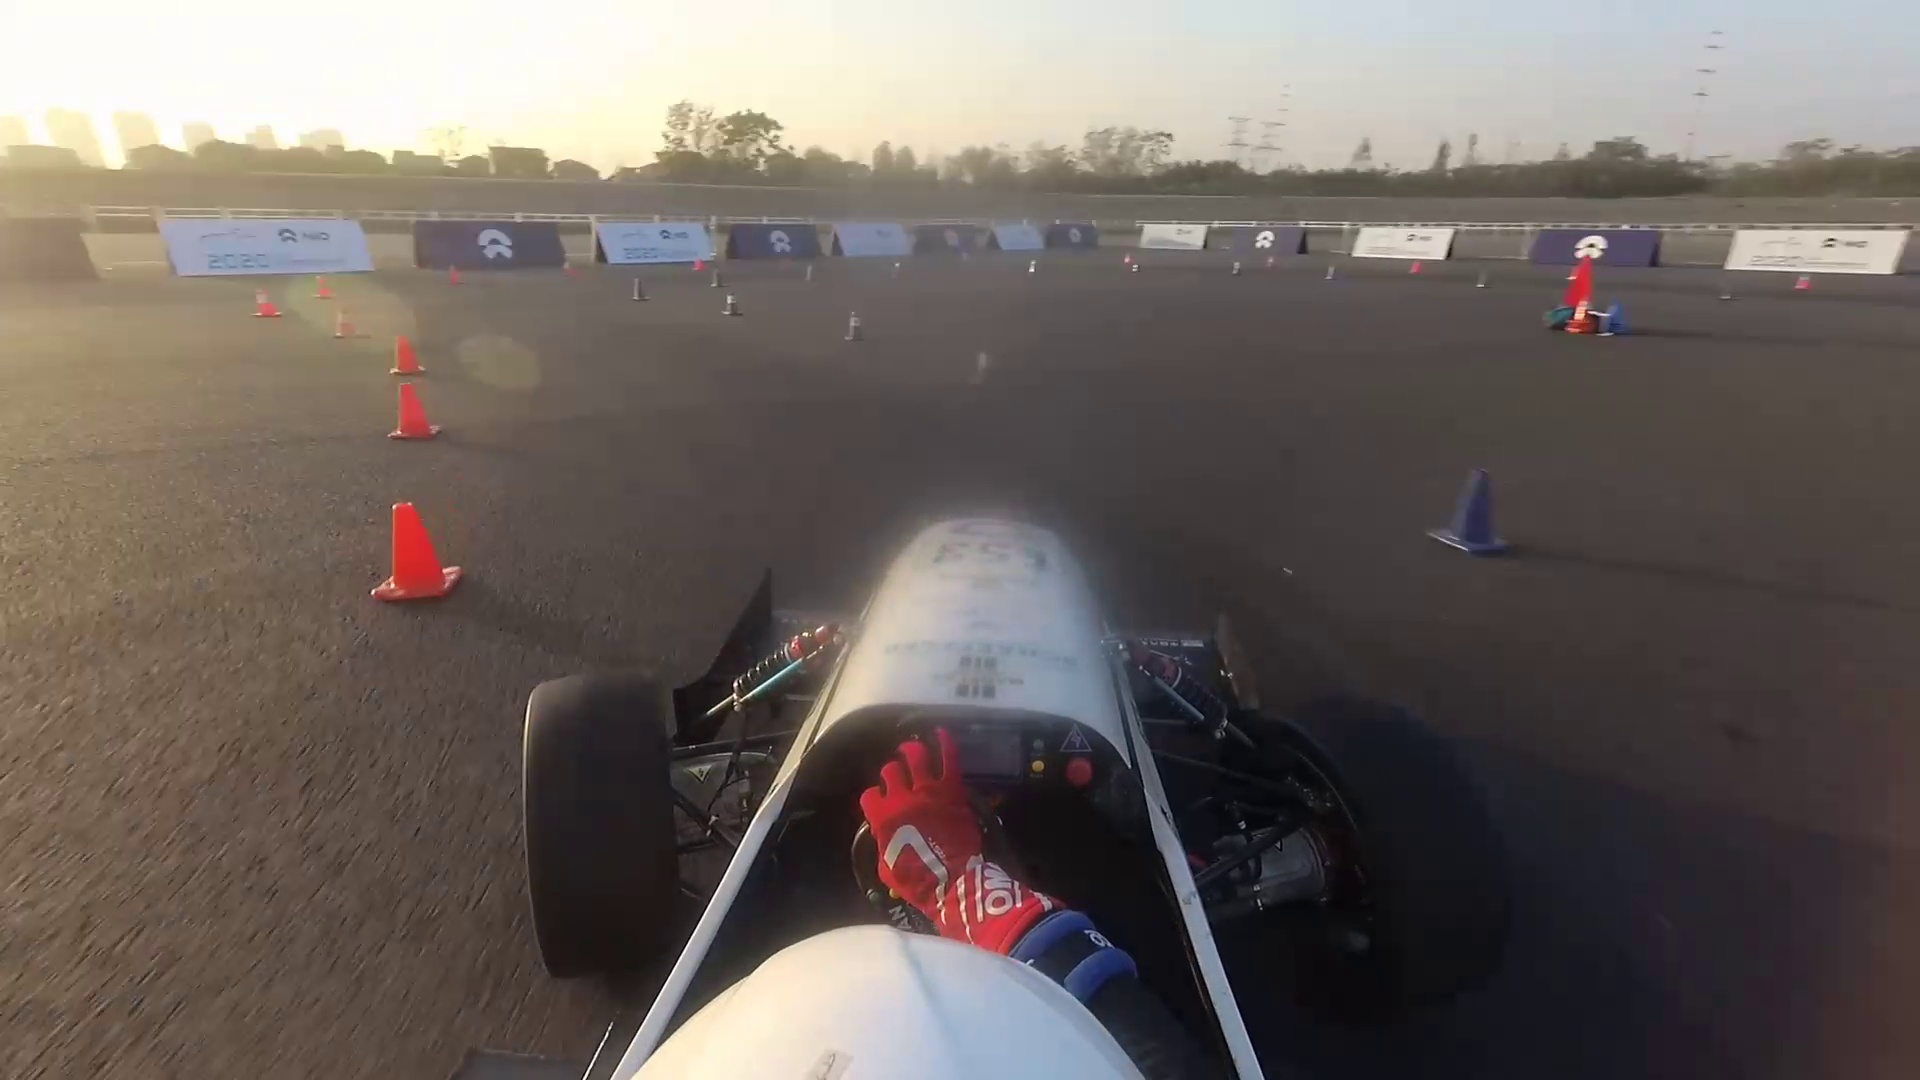blue_cone: (1429, 459, 1513, 576), (844, 305, 868, 349), (626, 274, 651, 309), (723, 290, 741, 318), (804, 257, 822, 285), (1226, 257, 1245, 278), (709, 266, 725, 286), (1029, 256, 1040, 276), (1133, 258, 1139, 274)
red_cone: (368, 491, 468, 626), (392, 382, 458, 459), (385, 342, 433, 376), (255, 282, 285, 320), (330, 303, 357, 342), (313, 273, 338, 299), (444, 262, 463, 294), (691, 255, 703, 272), (1125, 247, 1133, 262)
